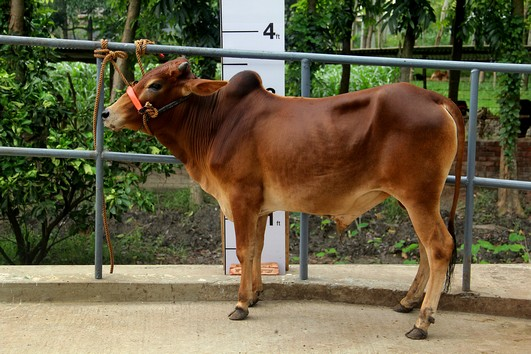cow: (93, 50, 469, 340)
